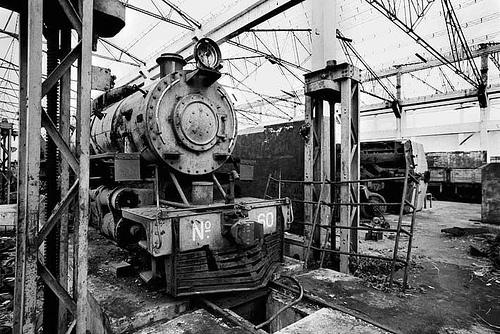train: (89, 35, 298, 307)
